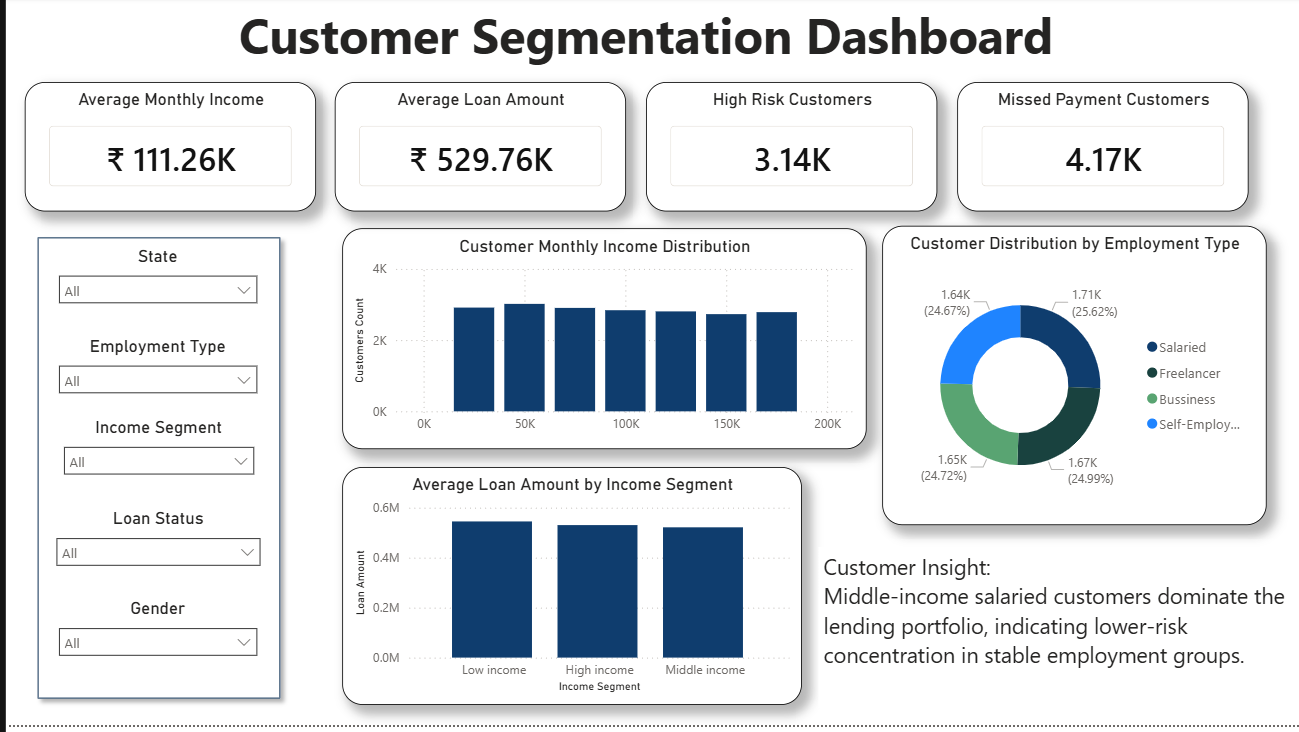

This screenshot's page, from the dashboard's own definition file:
{"tool":"powerbi","page":{"name":"customer_segmentation","canvas":[1280,720],"ordinal":1},"visuals":[{"type":"clusteredColumnChart","title":"Customer Monthly Income Distribution","fields":{"Category":["customer_loan_analytics.monthly_income (bins)"],"Y":["CountNonNull(customer_loan_analytics.customer_id)"]},"box":[332,228,518,218],"z":0},{"type":"shape","box":[18,84,1252,128],"z":1000},{"type":"shape","box":[22,228,258,474],"z":2000},{"type":"textbox","box":[18,0,1228,98],"z":3000},{"type":"cardVisual","title":"Average Monthly Income","fields":{"Data":["customer_loan_analytics.Average Monthly Income"]},"box":[18,84,288,128],"z":4000},{"type":"cardVisual","title":"Average Loan Amount","fields":{"Data":["customer_loan_analytics.Average Loan Amount"]},"box":[325.3,84,288,128],"z":5000},{"type":"cardVisual","title":"High Risk Customers","fields":{"Data":["customer_loan_analytics.High Risk Customers"]},"box":[632.7,84,288,128],"z":6000},{"type":"cardVisual","title":"Missed Payment Customers","fields":{"Data":["customer_loan_analytics.Missed Payment Customers"]},"box":[940,84,288,128],"z":7000},{"type":"clusteredColumnChart","title":"Average Loan Amount by Income Segment","fields":{"Y":["Avg(customer_loan_analytics.loan_amount)"],"Category":["customer_loan_analytics.income_segment"]},"box":[332.6,465.1,454.3,235.2],"z":8000},{"type":"donutChart","title":"Customer Distribution by Employment Type","fields":{"Y":["Count(customer_loan_analytics.customer_id)"],"Category":["customer_loan_analytics.employment_type"]},"box":[866,226,380,296],"z":9000},{"type":"slicer","title":"Employment Type","fields":{"Values":["customer_loan_analytics.employment_type"]},"box":[42.6,334.5,216,68],"z":10000},{"type":"slicer","title":"Income Segment","fields":{"Values":["customer_loan_analytics.income_segment"]},"box":[46.6,415,208,78],"z":11000},{"type":"slicer","title":"Gender","fields":{"Values":["customer_loan_analytics.gender"]},"box":[42.6,594,216,82],"z":12000},{"type":"slicer","title":"Loan Status","fields":{"Values":["customer_loan_analytics.loan_status"]},"box":[39.6,505.5,222,76],"z":13000},{"type":"slicer","title":"State","fields":{"Values":["customer_loan_analytics.state"]},"box":[42.6,246,216,76],"z":14000},{"type":"textbox","box":[803.1,543.5,467.8,159.5],"z":15000}]}

Visuals, with their boxes in screenshot pixels (x1, y1, x2, y2), scaled from the page's 1280x720 canvas onto the 1299x732 screenshot:
"Customer Monthly Income Distribution" clusteredColumnChart: (left=337, top=232, right=863, bottom=453)
shape: (left=18, top=85, right=1289, bottom=216)
shape: (left=22, top=232, right=284, bottom=714)
textbox: (left=18, top=0, right=1264, bottom=100)
"Average Monthly Income" cardVisual: (left=18, top=85, right=311, bottom=216)
"Average Loan Amount" cardVisual: (left=330, top=85, right=622, bottom=216)
"High Risk Customers" cardVisual: (left=642, top=85, right=934, bottom=216)
"Missed Payment Customers" cardVisual: (left=954, top=85, right=1246, bottom=216)
"Average Loan Amount by Income Segment" clusteredColumnChart: (left=338, top=473, right=799, bottom=712)
"Customer Distribution by Employment Type" donutChart: (left=879, top=230, right=1264, bottom=531)
"Employment Type" slicer: (left=43, top=340, right=262, bottom=409)
"Income Segment" slicer: (left=47, top=422, right=258, bottom=501)
"Gender" slicer: (left=43, top=604, right=262, bottom=687)
"Loan Status" slicer: (left=40, top=514, right=265, bottom=591)
"State" slicer: (left=43, top=250, right=262, bottom=327)
textbox: (left=815, top=553, right=1290, bottom=715)
